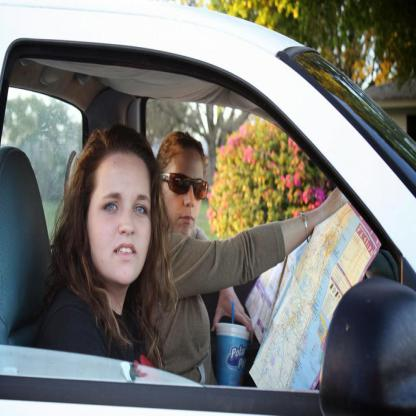face: (91, 166, 155, 289), (168, 161, 206, 233)
